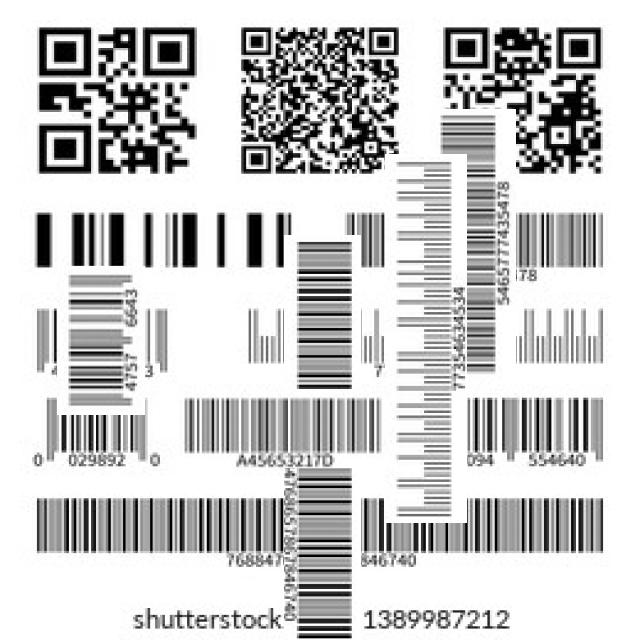Barkod: (156, 362, 487, 640), (313, 225, 539, 451), (384, 156, 563, 334), (26, 204, 299, 276), (178, 389, 388, 468), (42, 282, 161, 401)
